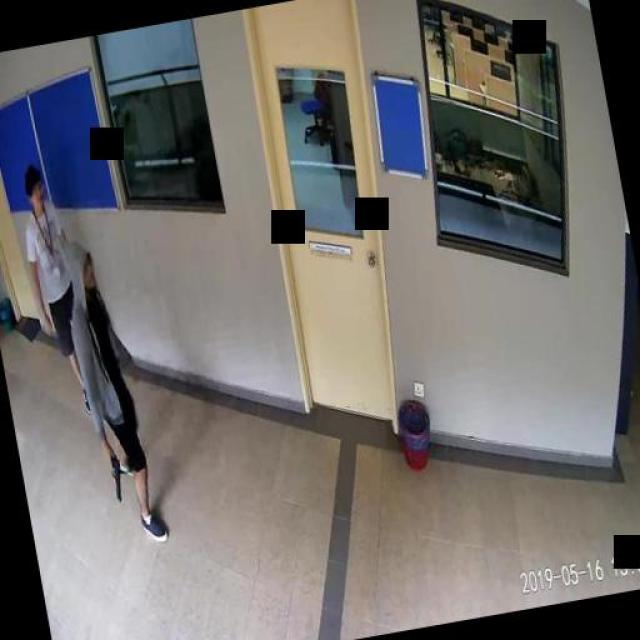gun: (104, 448, 124, 500)
